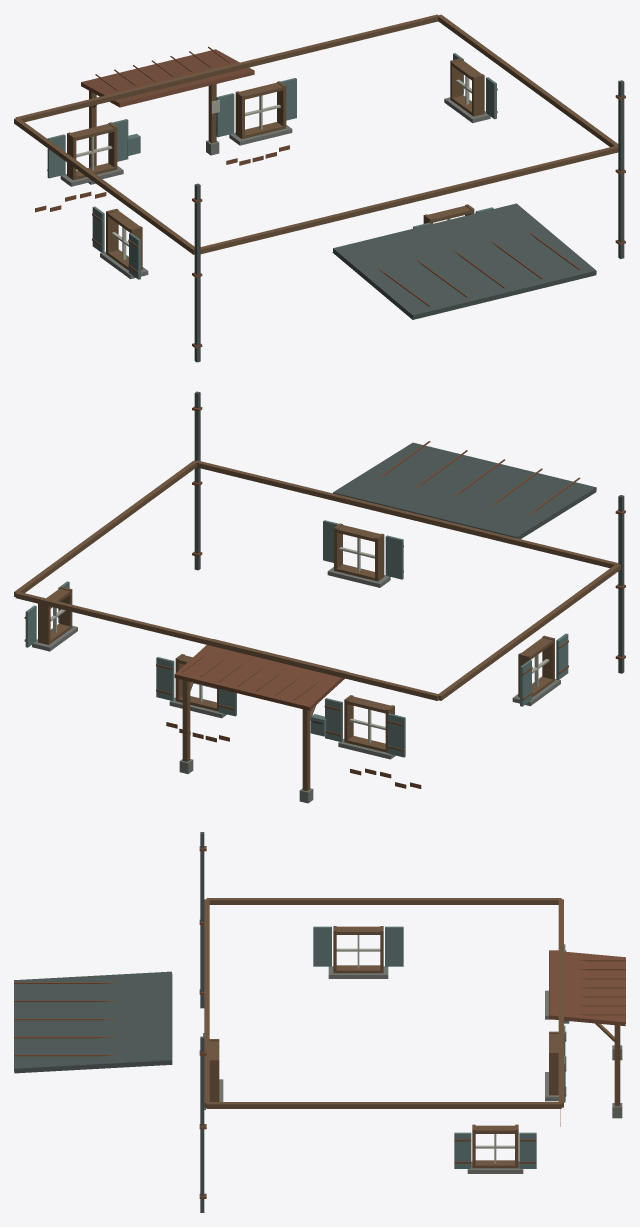
The model's file is home_facade.glb.
The picture shows the model from 3 angles, top to bottom: view 1: azimuth 30°, elevation 25°; view 2: azimuth 150°, elevation 25°; view 3: azimuth 270°, elevation 25°; orthographic projection.
Visible parts, largest first — view 1: home_facade; view 2: home_facade; view 3: home_facade.
Boxes of the visible parts, box(x1,y1,x2,y2) form: home_facade: box(14, 14, 625, 362); home_facade: box(14, 391, 625, 803); home_facade: box(14, 832, 625, 1212).
Size of the model in its own units: 11.5 by 4.5 by 14.3.
